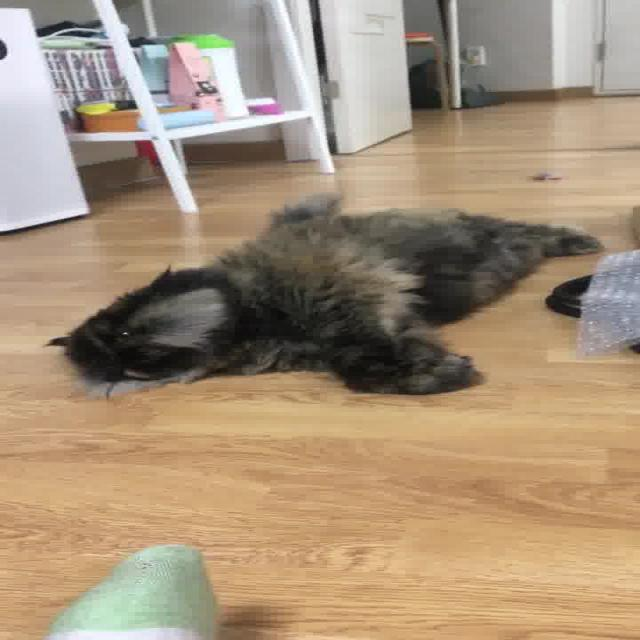cat: (41, 183, 617, 400)
